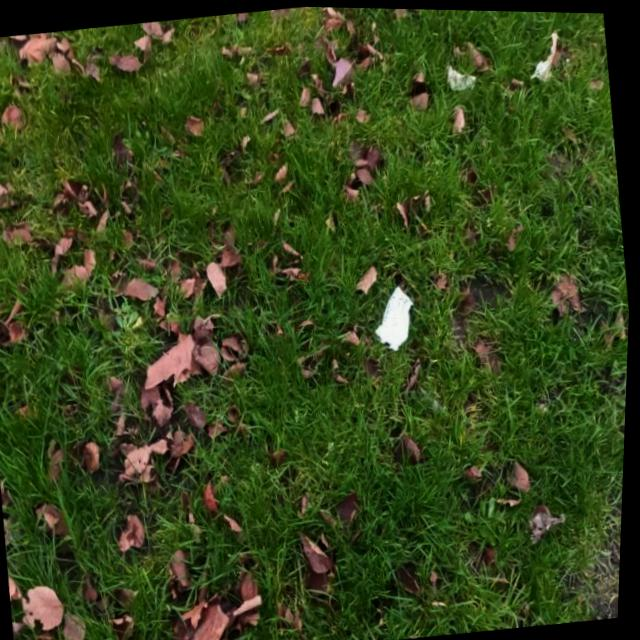Paper: (524, 27, 563, 82), (445, 60, 479, 91)
Plastic: (369, 279, 423, 353)
